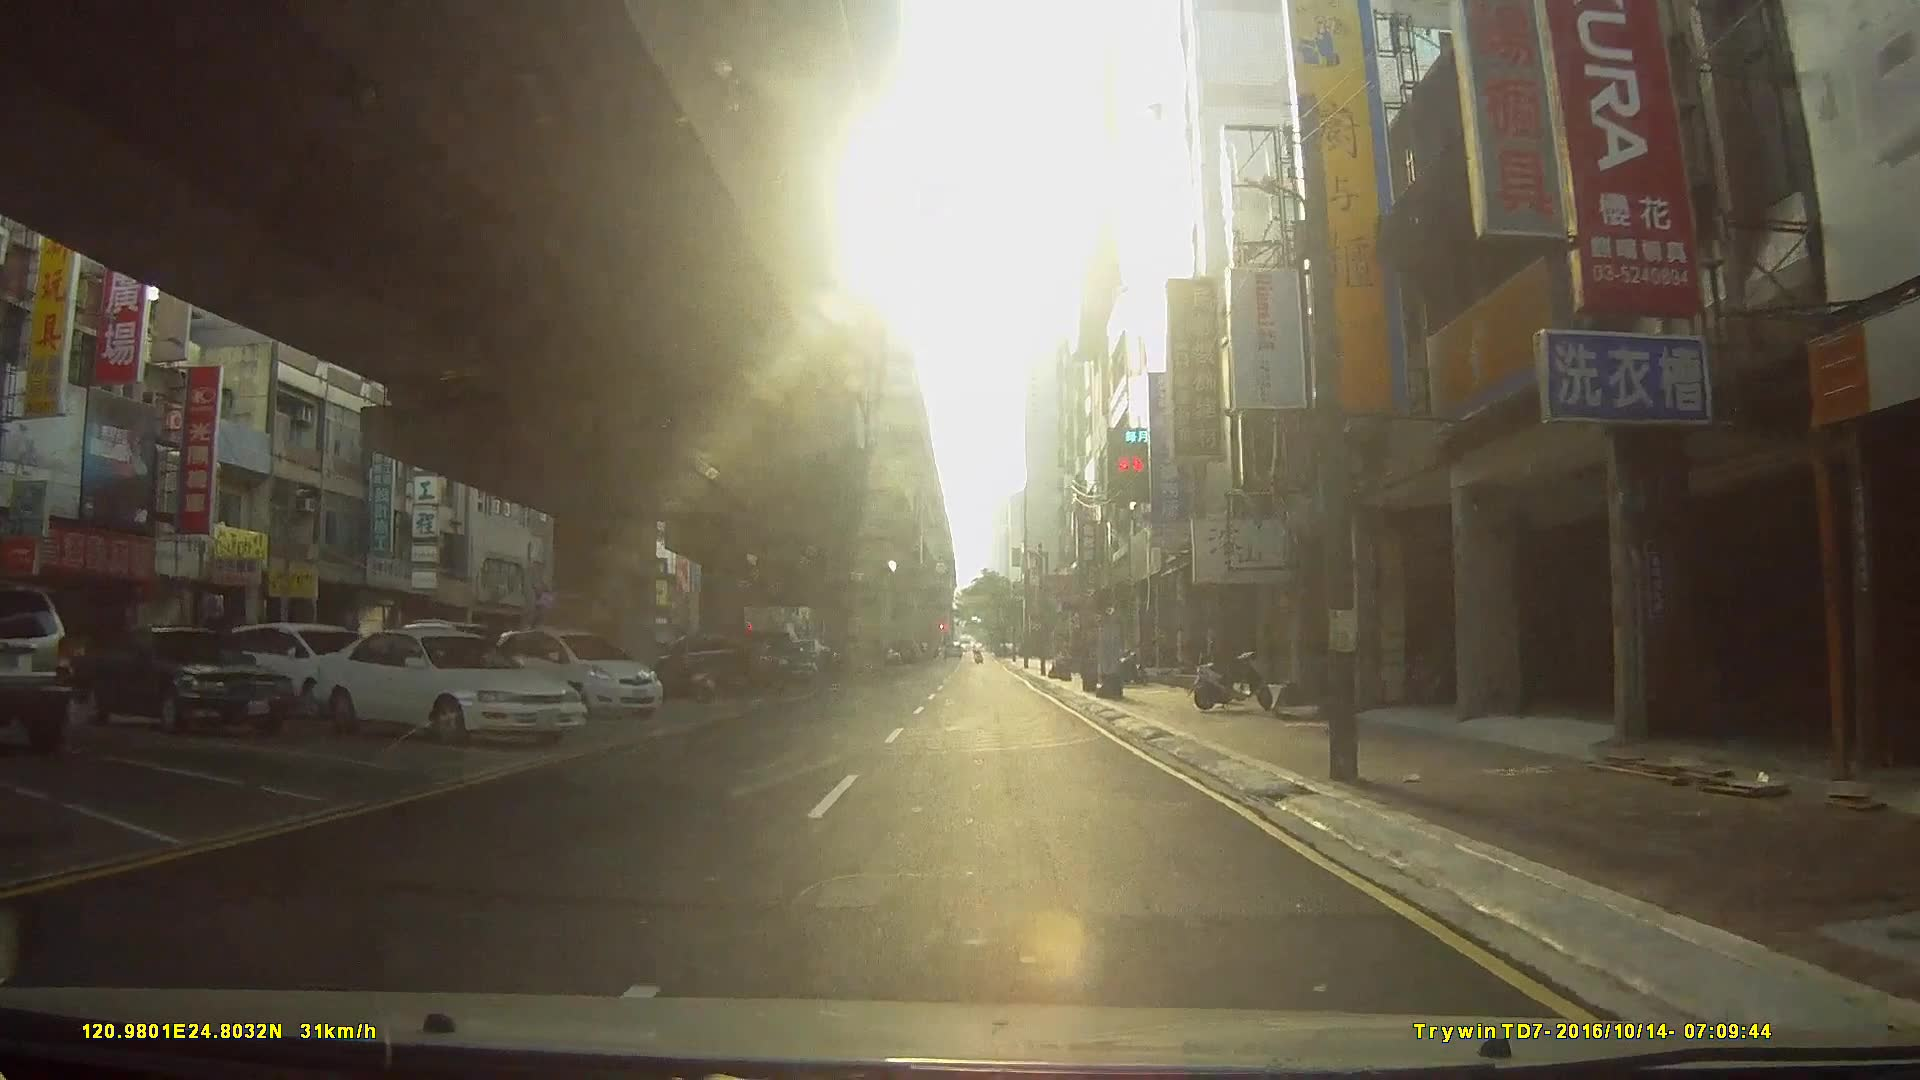vehicle: (309, 625, 585, 745), (69, 625, 295, 732), (491, 626, 663, 720), (220, 622, 373, 717), (0, 579, 73, 748)
